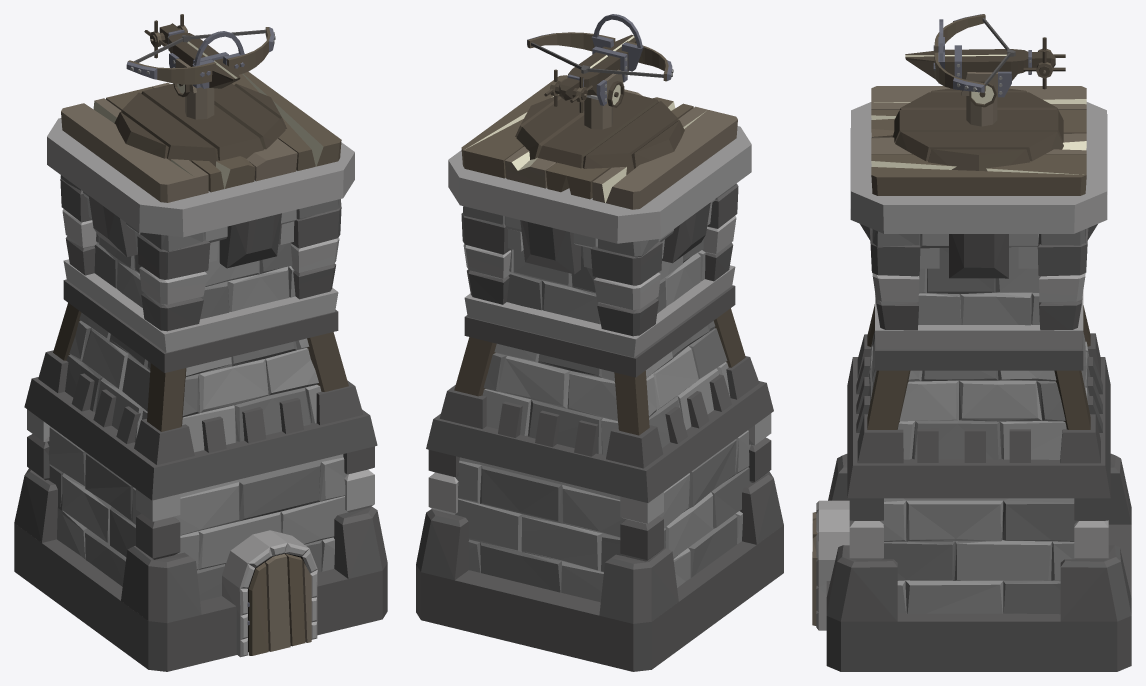
File: _Ballist_tower_LVL_3.fbx
The picture shows the model from 3 angles, left to right: view 1: azimuth 30°, elevation 25°; view 2: azimuth 150°, elevation 25°; view 3: azimuth 270°, elevation 25°; orthographic projection. The views are drawn at different scales.
Visible parts, largest first — view 1: Ballist_tower_LVL_3; view 2: Ballist_tower_LVL_3; view 3: Ballist_tower_LVL_3.
Boxes of the visible parts, <box> form: Ballist_tower_LVL_3: <box>14,14,387,671</box>; Ballist_tower_LVL_3: <box>416,14,783,671</box>; Ballist_tower_LVL_3: <box>812,14,1131,671</box>.
Bounding box in the file's own units: 566 × 1293 × 634.
